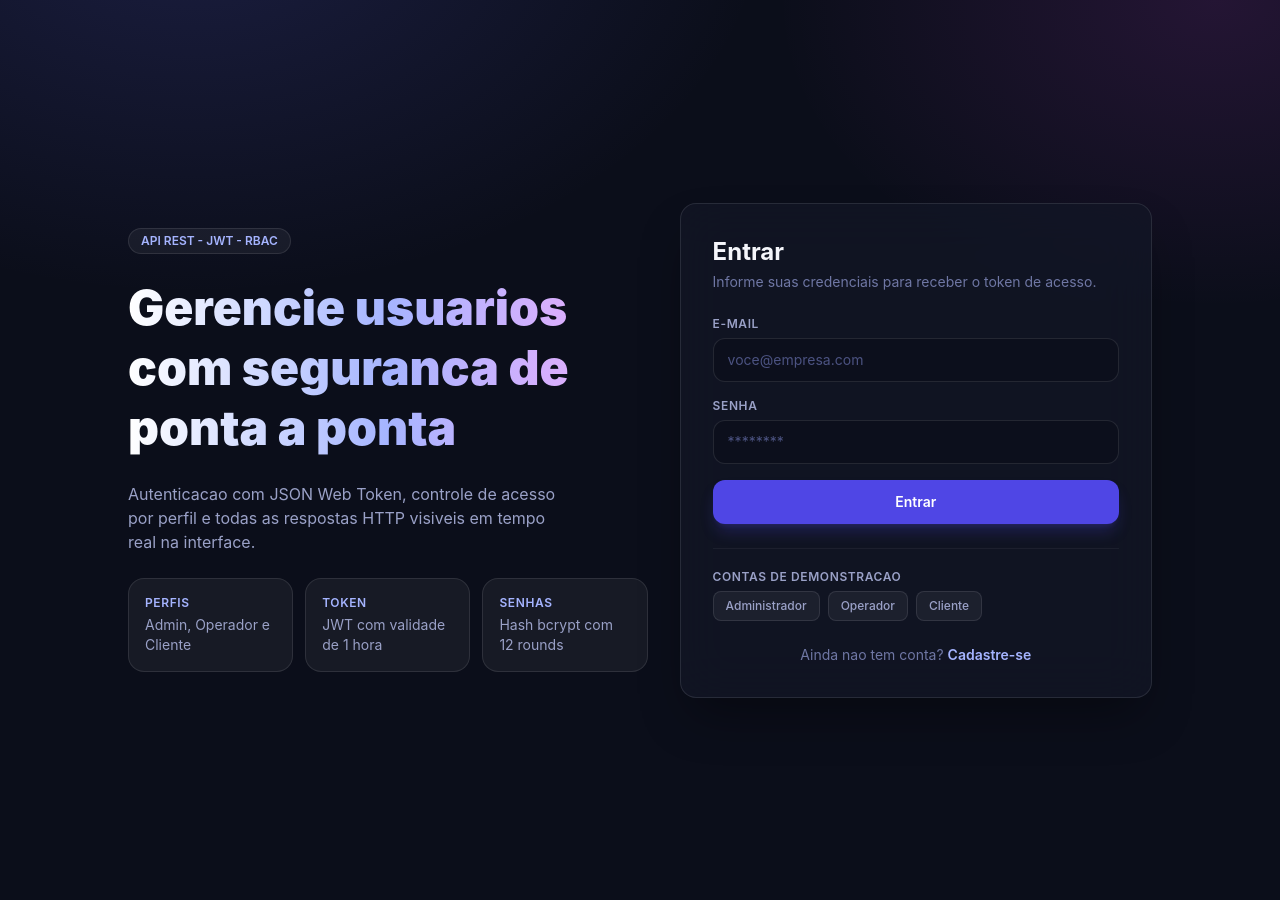
it: <Login /> › exibe erros de validacao por campo
The image size is (1280, 900).
Type "sem-arroba" into the field labelled "E-mail".
click(916, 360); type("sem-arroba")  # box [713,338,1119,382]
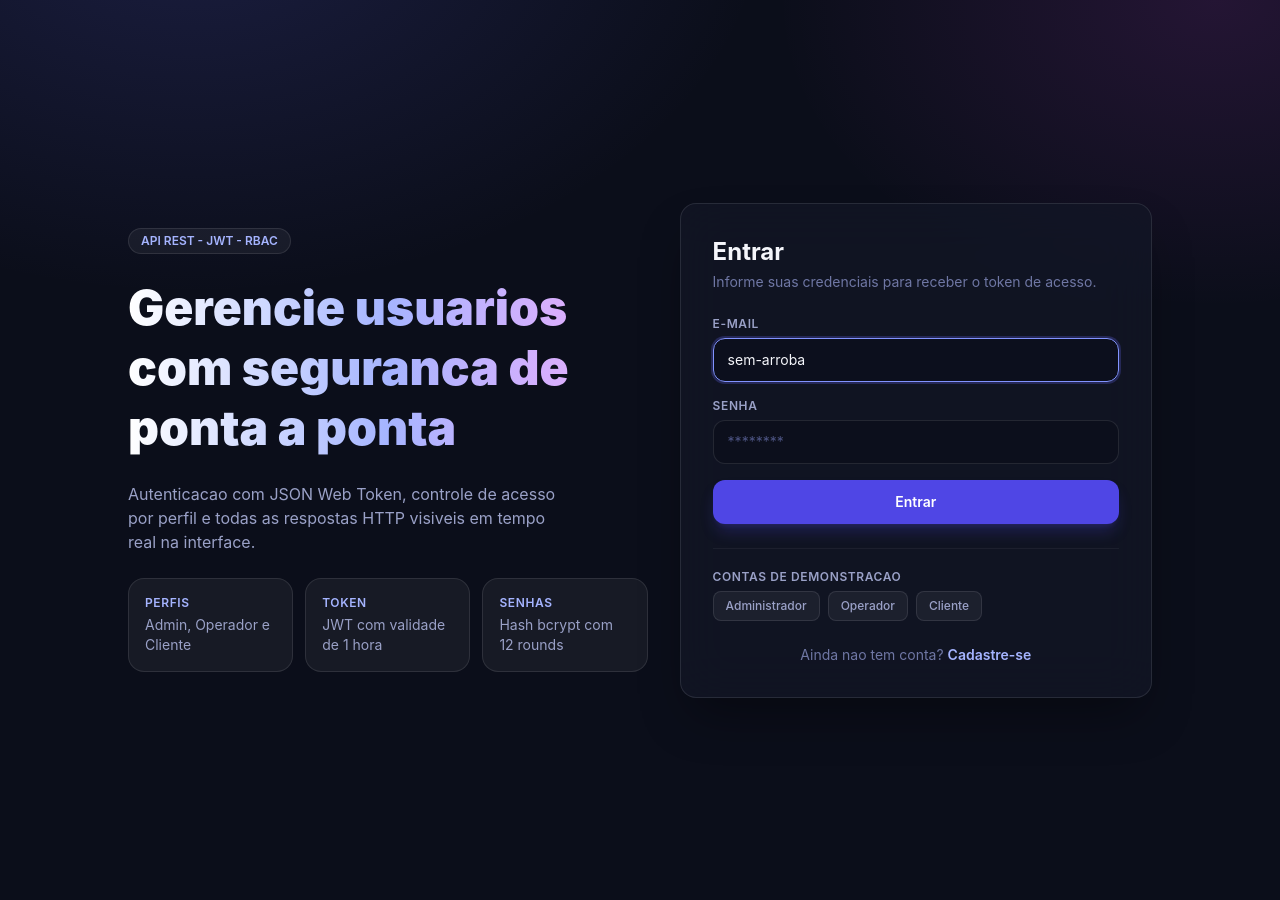
Type "Senha@123" into the password field labelled "Senha".
click(916, 442); type("Senha@123")  # box [713,420,1119,464]
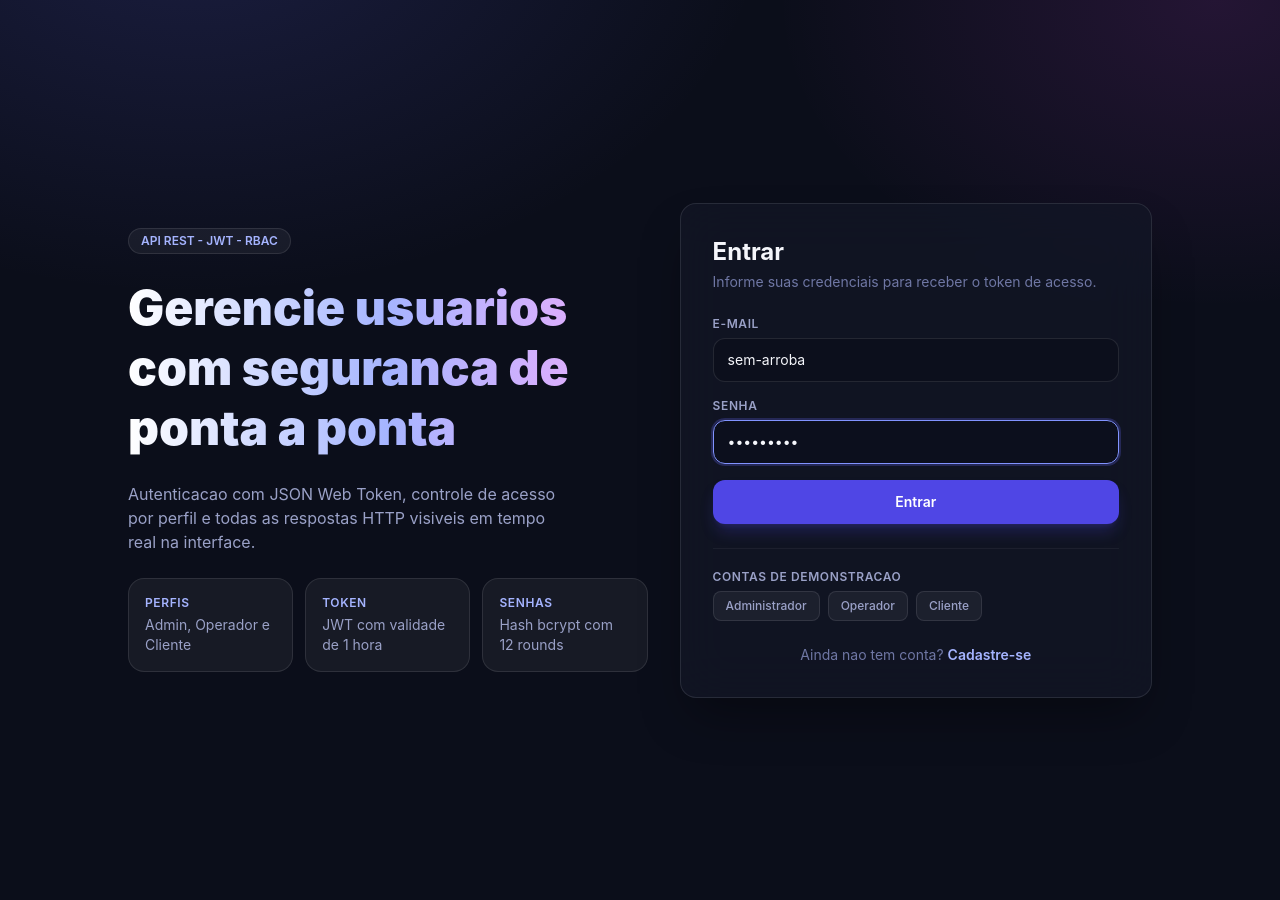
Click the button "Entrar".
click(916, 502)  # box [713,480,1119,524]
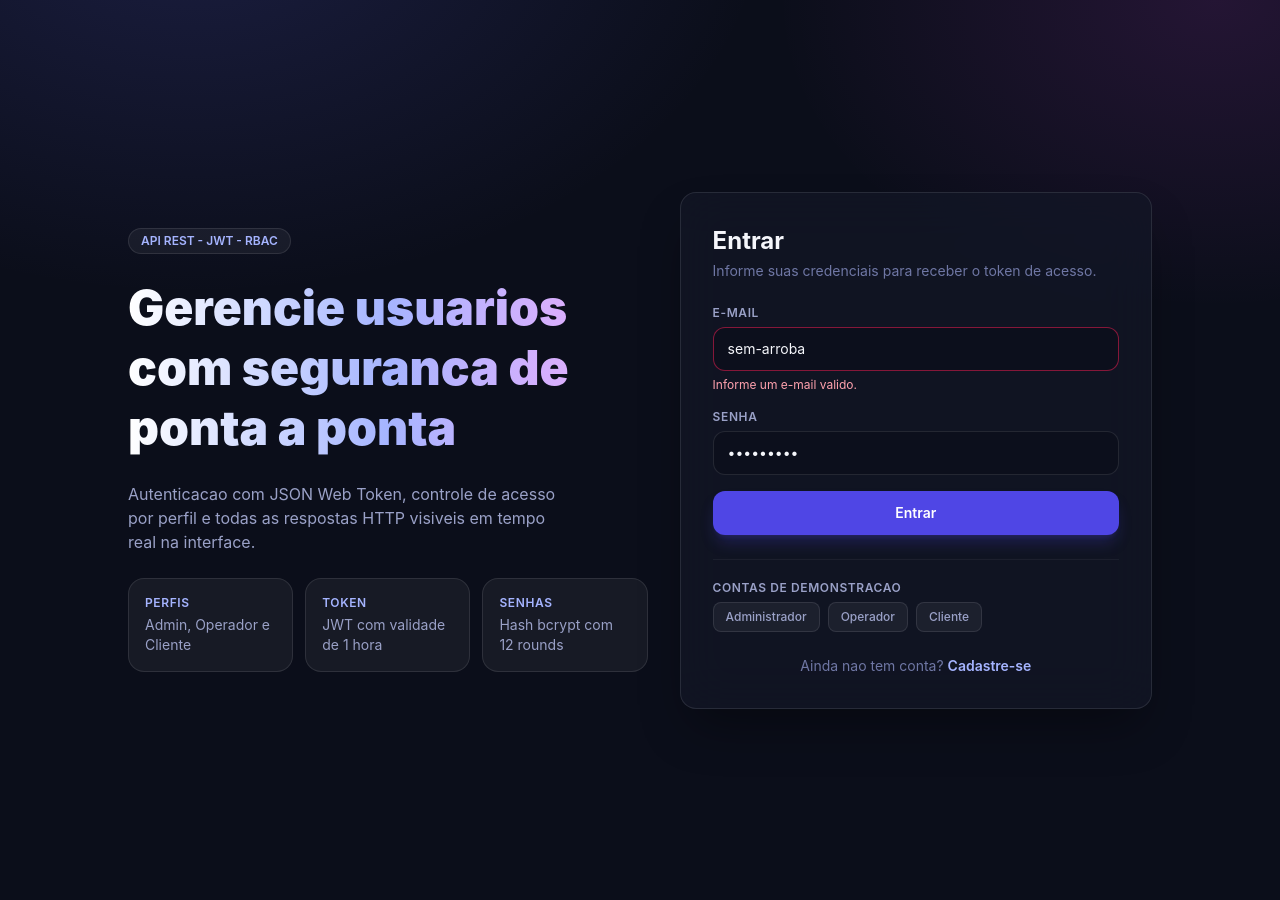
Expected: the text "Informe um e-mail valido." is shown, [713,376,857,392]
